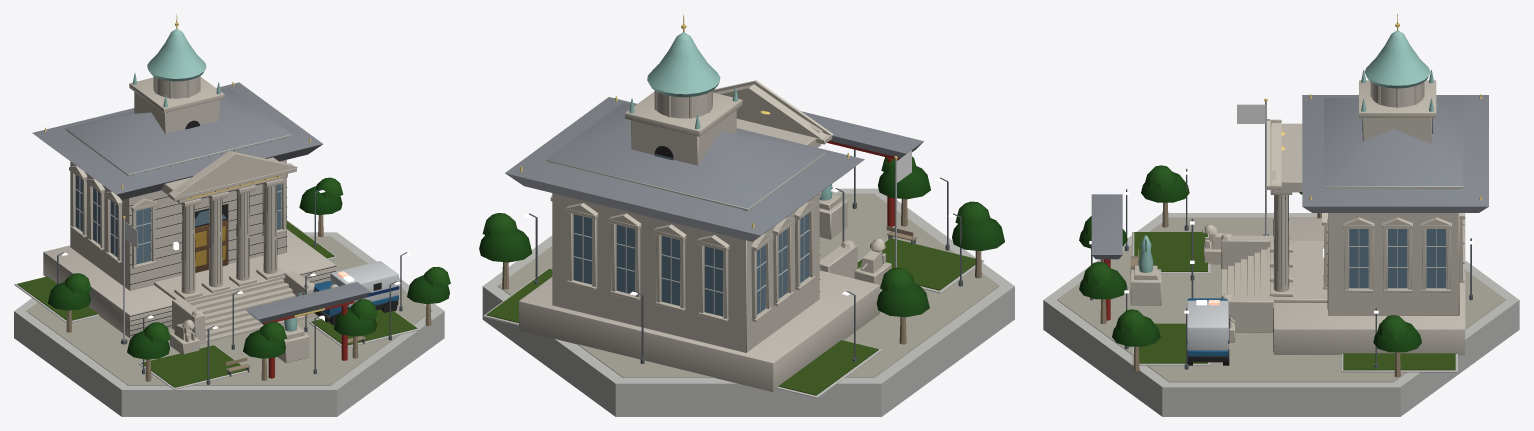
File: courthouse_asia.glb
3 views of the same model, side by side, from view 1: azimuth 30°, elevation 25°; view 2: azimuth 150°, elevation 25°; view 3: azimuth 270°, elevation 25° (orthographic). The views are drawn at different scales.
Parts seen in each view (by area): view 1: stone, wall_concrete, roof_slate, pavers, leaf, turf, dark, paint, glass, copper, wood, steel_dark (+1 smaller); view 2: stone, roof_slate, wall_concrete, pavers, leaf, glass, turf, copper, steel_dark, wood, paint; view 3: stone, roof_slate, wall_concrete, pavers, turf, leaf, glass, copper, paint, steel_dark, dark, wood (+1 smaller).
Part boxes in pixels (x1,y1,x2,y2): stone: [43, 76, 338, 362]; wall_concrete: [14, 129, 444, 416]; roof_slate: [32, 82, 370, 323]; pavers: [26, 236, 432, 385]; leaf: [48, 177, 450, 359]; turf: [17, 221, 417, 387]; dark: [129, 120, 398, 335]; paint: [262, 261, 399, 378]; glass: [75, 175, 316, 292]; copper: [132, 29, 304, 331]; wood: [66, 214, 431, 381]; steel_dark: [56, 189, 407, 384]; stone: [519, 80, 891, 391]; roof_slate: [505, 97, 923, 241]; wall_concrete: [482, 152, 1014, 416]; pavers: [498, 193, 999, 377]; leaf: [479, 156, 1004, 317]; glass: [574, 154, 808, 316]; turf: [486, 238, 975, 395]; copper: [629, 32, 832, 200]; steel_dark: [529, 149, 962, 363]; wood: [502, 199, 981, 344]; paint: [827, 141, 900, 226]; stone: [1130, 80, 1465, 355]; roof_slate: [1091, 95, 1488, 259]; wall_concrete: [1043, 186, 1519, 416]; pavers: [1057, 217, 1505, 382]; turf: [1134, 232, 1455, 370]; leaf: [1079, 165, 1421, 352]; glass: [1349, 124, 1445, 288]; copper: [1138, 30, 1433, 272]; paint: [1103, 259, 1229, 356]; steel_dark: [1090, 168, 1472, 369]; dark: [1187, 118, 1432, 365]; wood: [1100, 202, 1400, 377].
Bounding box in the file's own units: 21.41 × 18 × 24.6.
